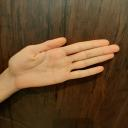OpenPalm: (9, 36, 120, 91)
